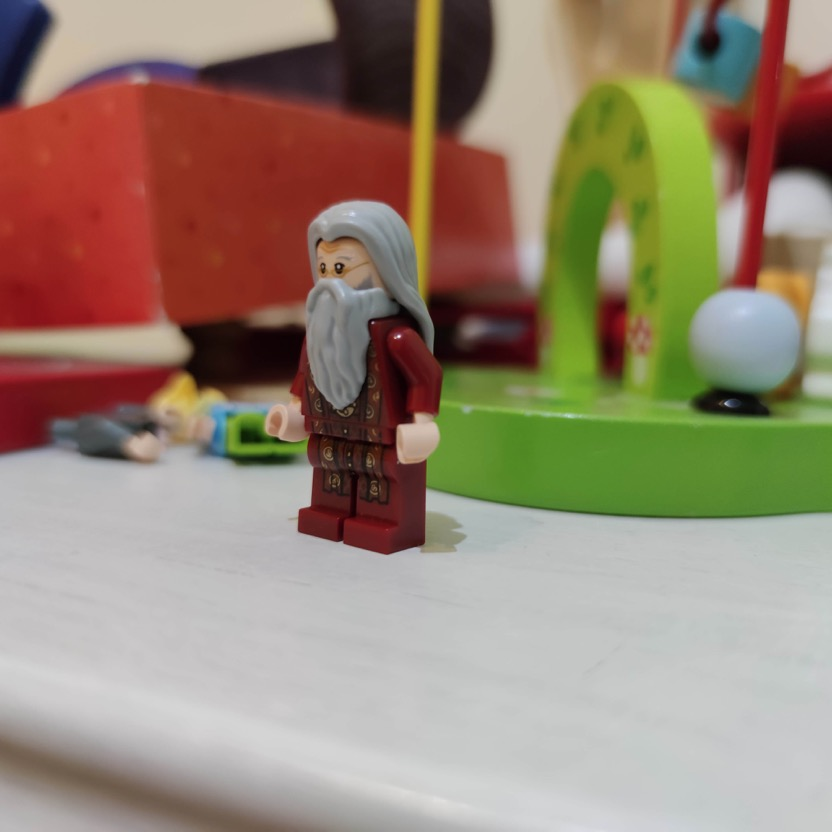lego: (264, 198, 447, 557)
